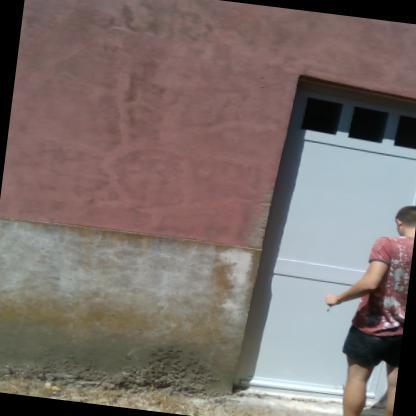closed: (232, 60, 415, 415)
